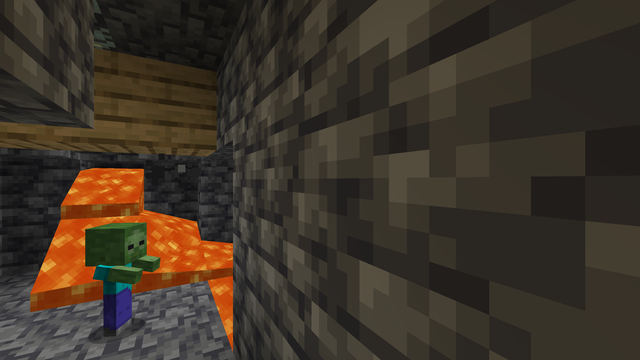zombies: (96, 235, 136, 341)
